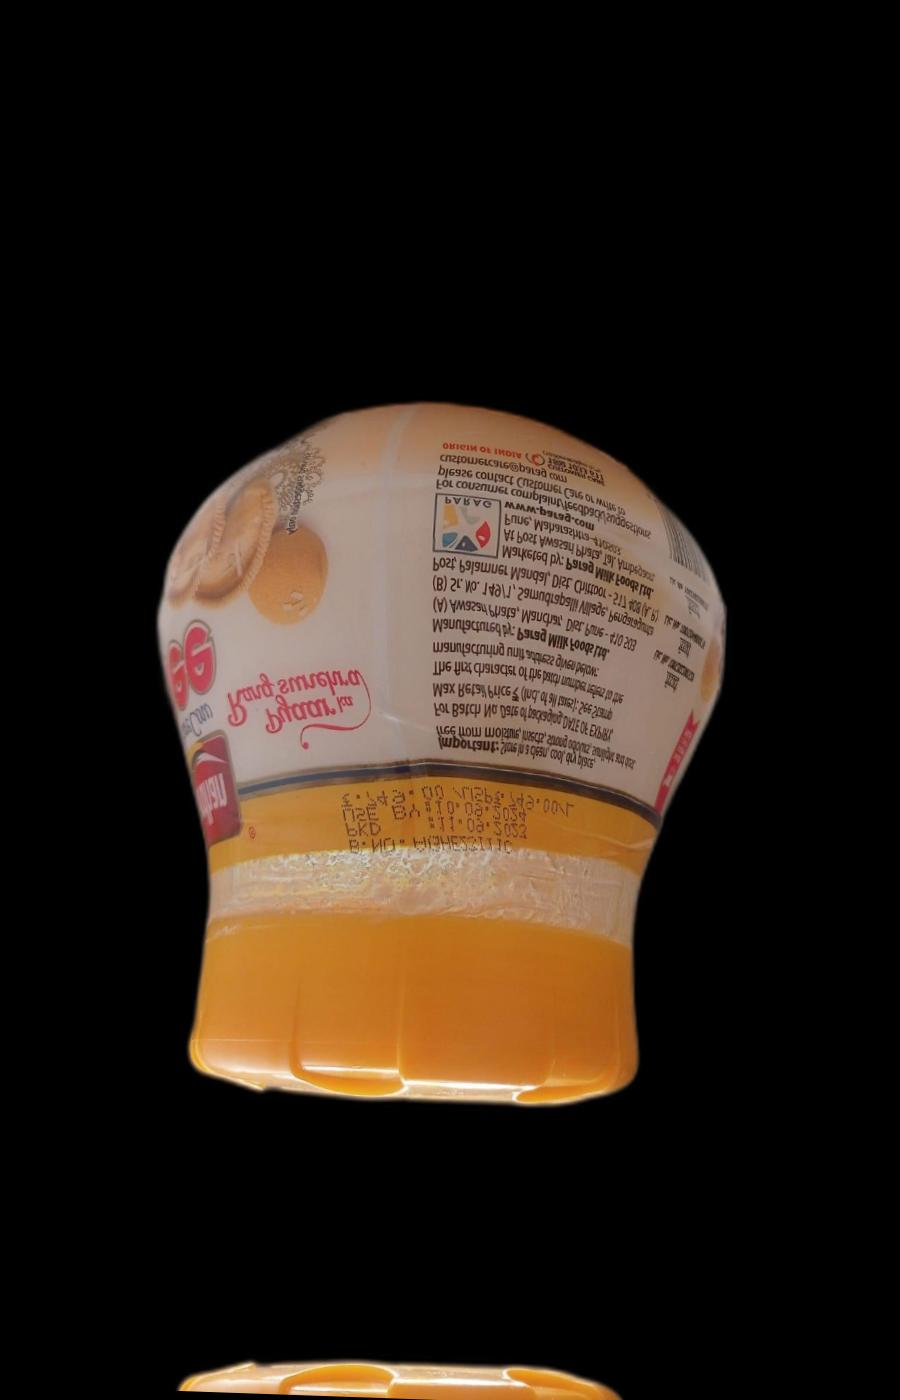Govardhan Pure cow Ghee -1kg-: (113, 399, 755, 1120)
